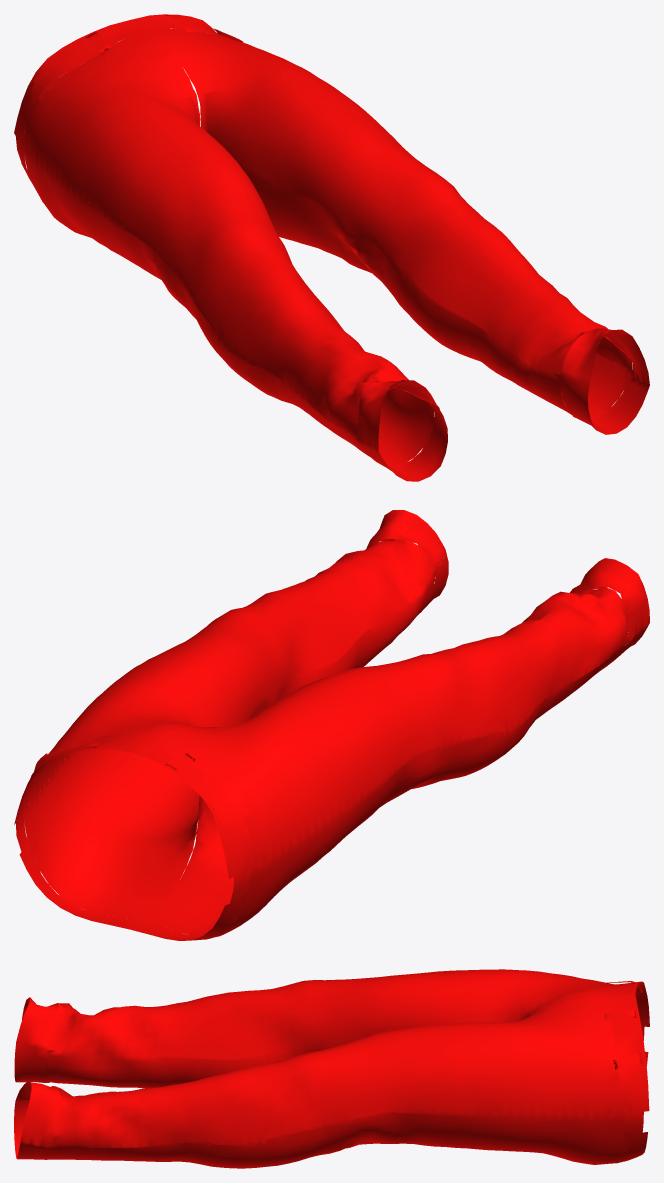
The model's file is mens bottom formal4.glb.
3 views of the same model, one above another, from view 1: azimuth 30°, elevation 25°; view 2: azimuth 150°, elevation 25°; view 3: azimuth 270°, elevation 25° (orthographic). The views are drawn at different scales.
Visible parts, largest first — view 1: pant; view 2: pant; view 3: pant.
Boxes of the visible parts, x1,y1,x2,y2 form: pant: (14, 14, 649, 481); pant: (14, 510, 649, 940); pant: (14, 969, 649, 1168).
Bounding box in the file's own units: 23.73 × 14.51 × 57.09.
